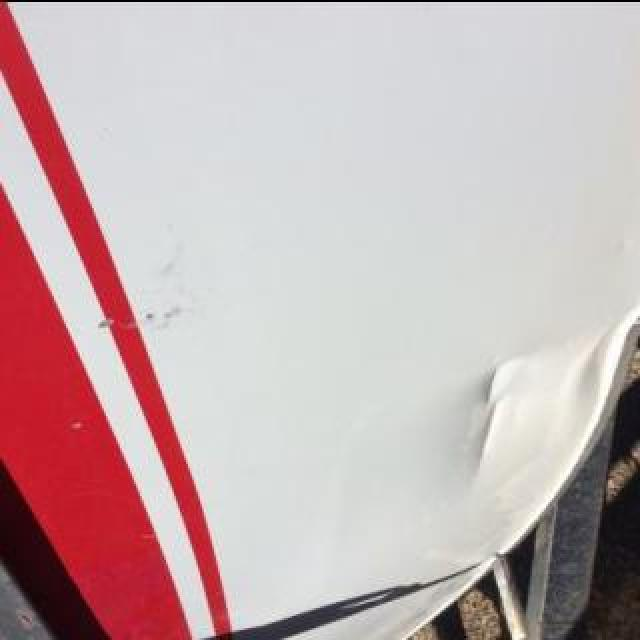dent: (463, 352, 515, 478), (572, 303, 640, 395)
